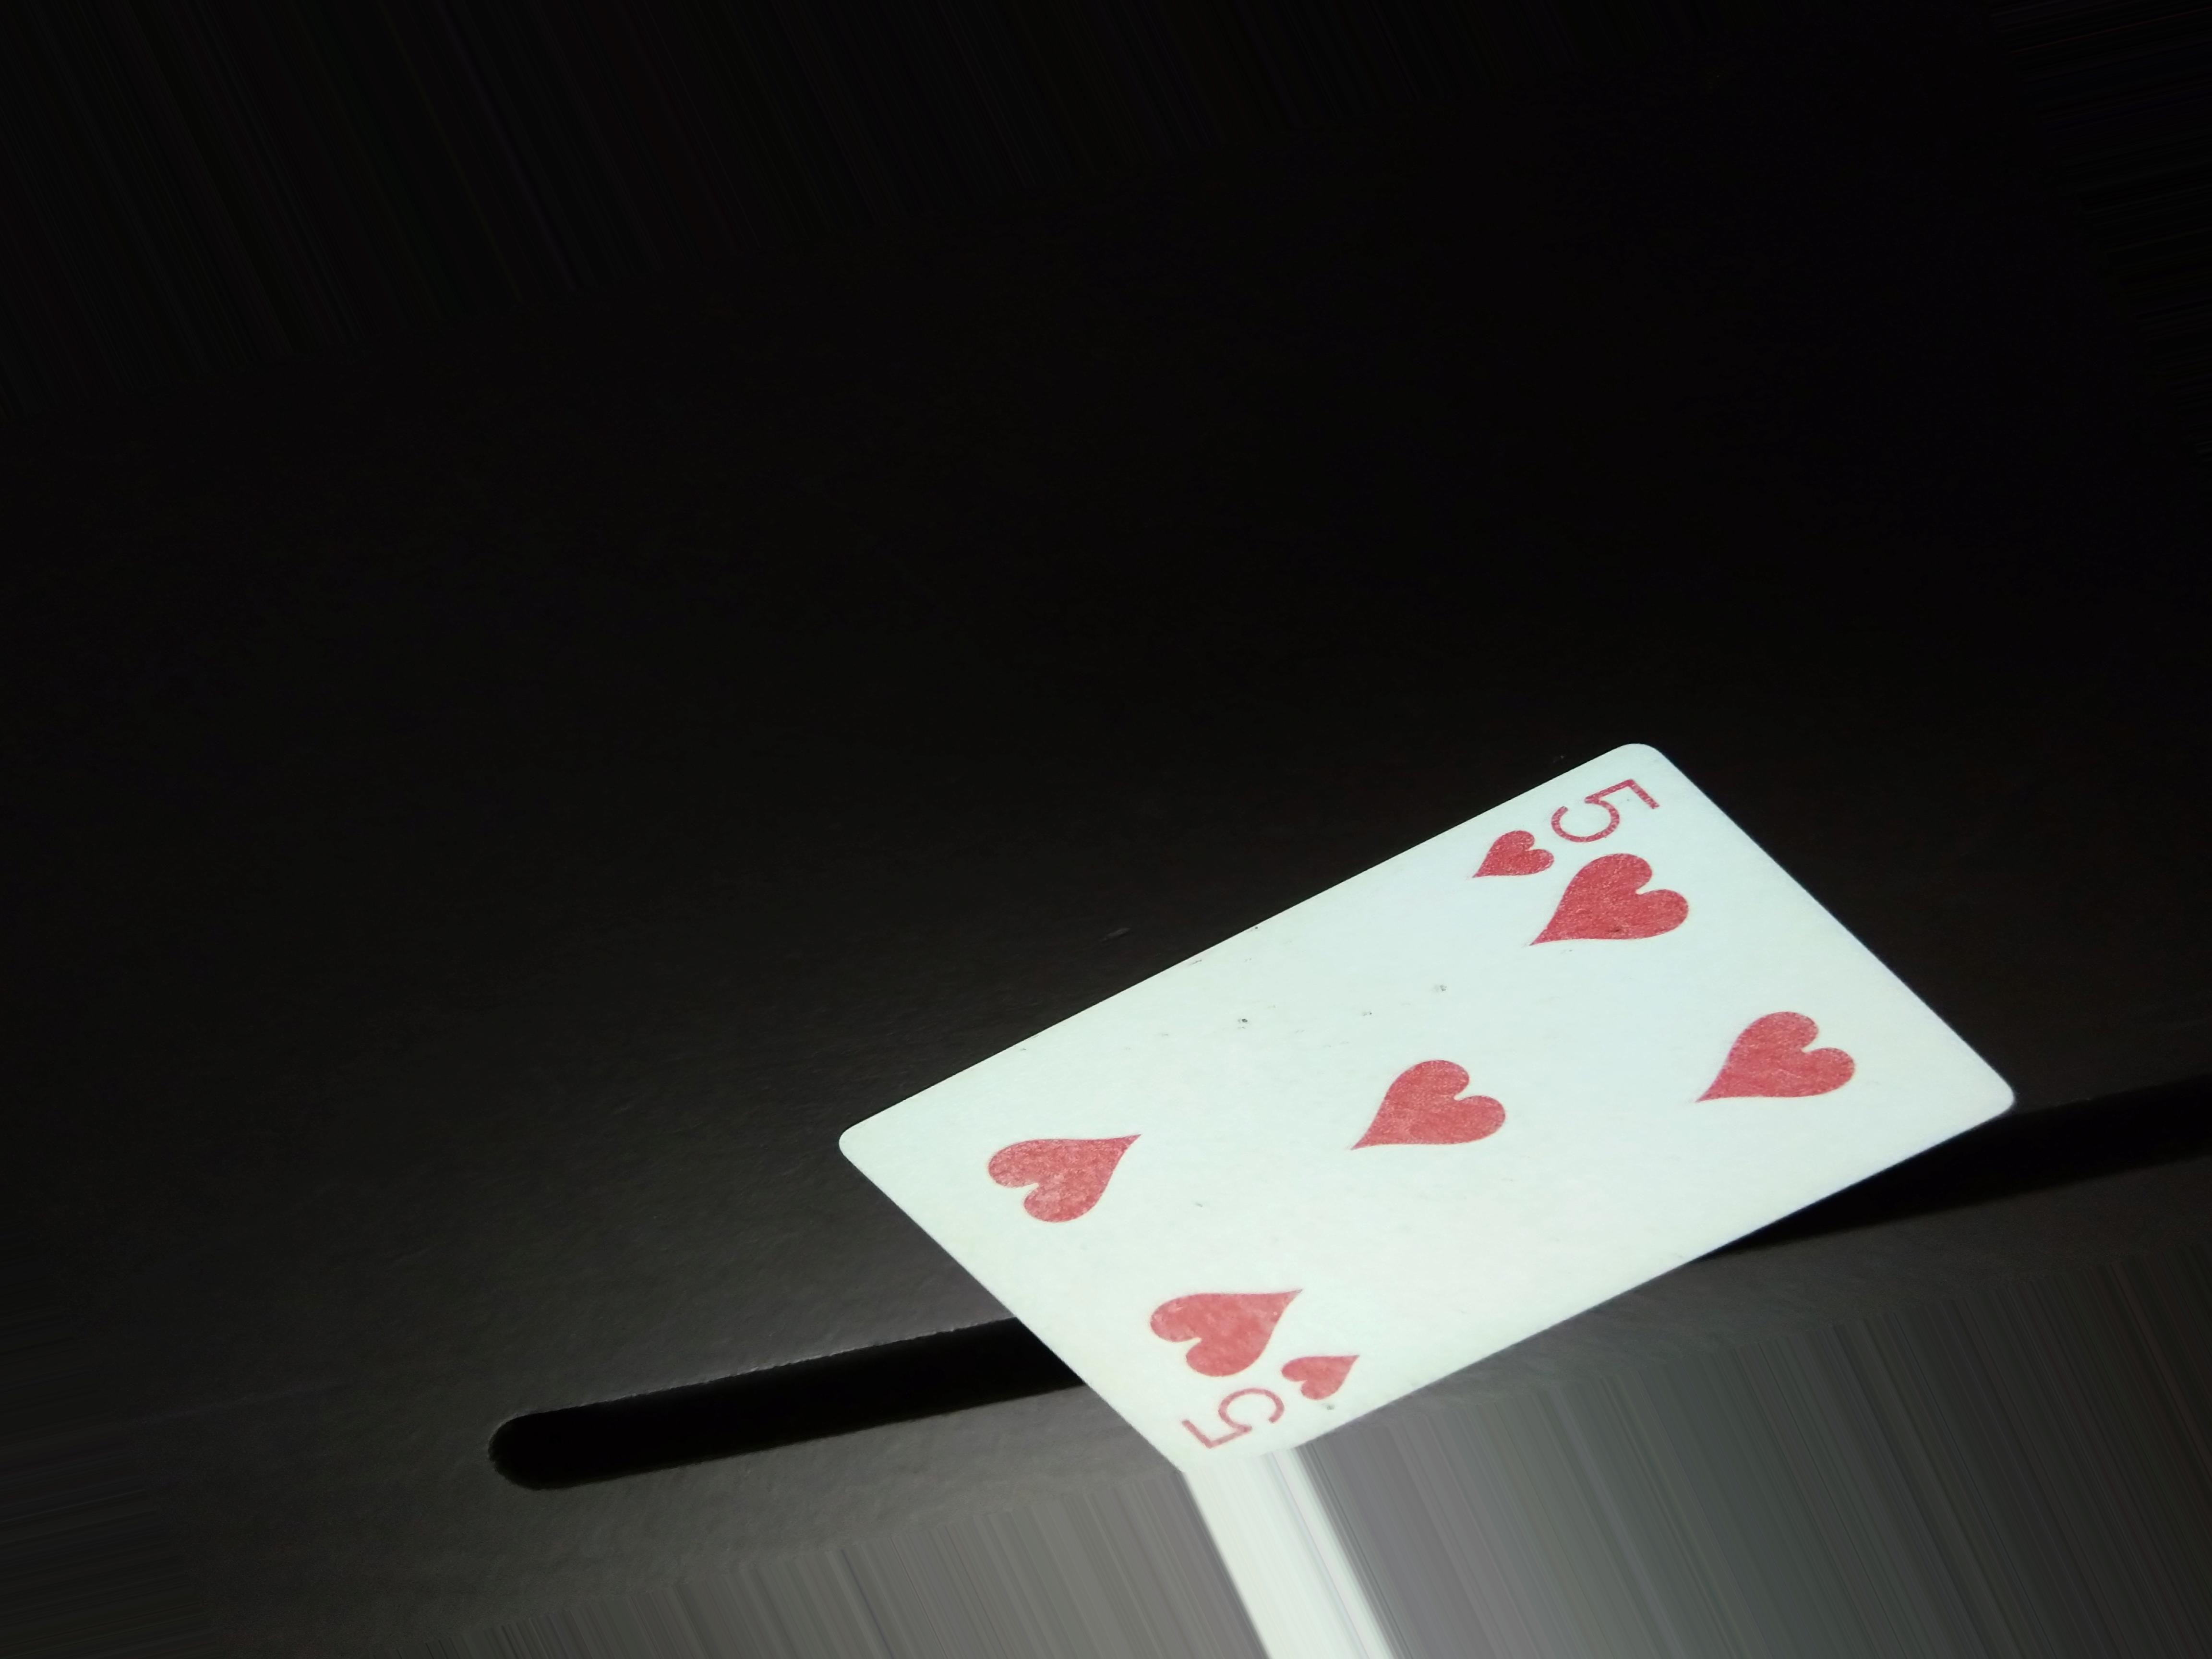5H: (1465, 763, 1651, 910)
